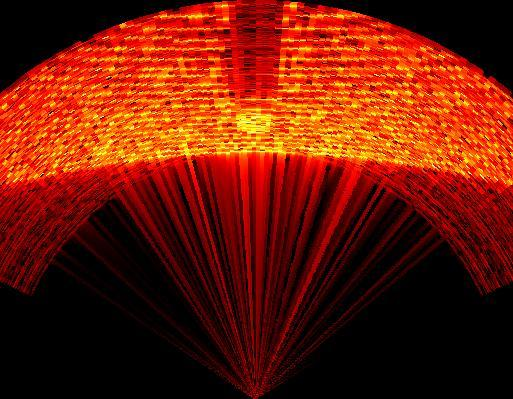box_crate: (220, 0, 282, 114)
